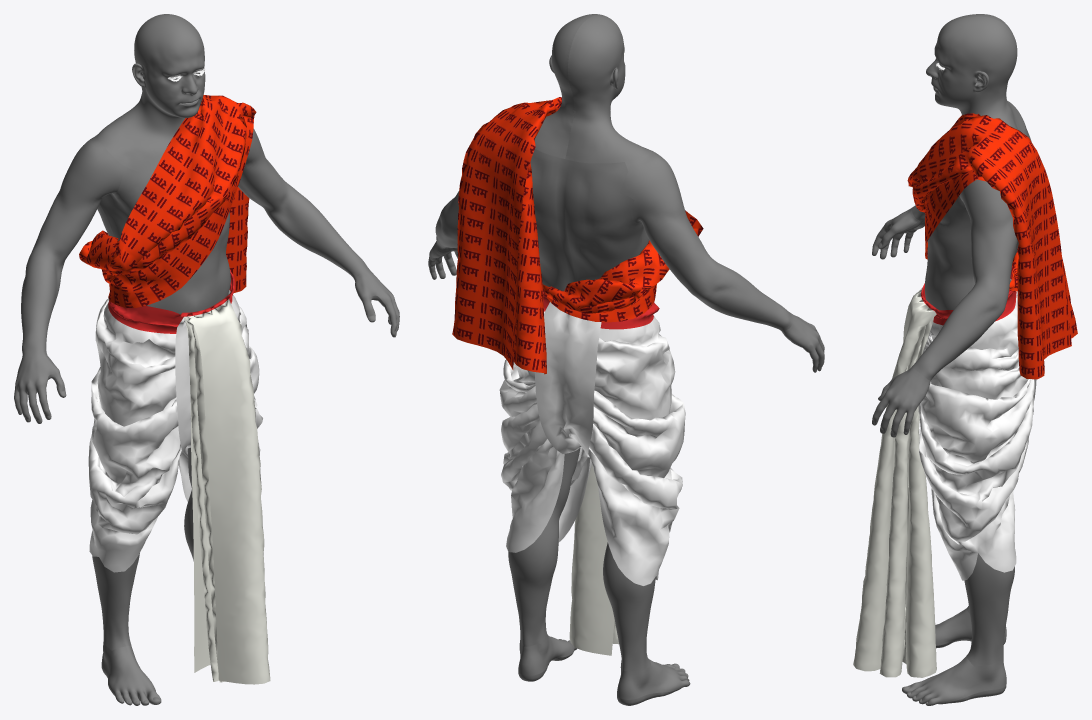
File: pujari-mahant-guru_72_b1y1.glb
3 renders of one model, left to right at view 1: azimuth 30°, elevation 25°; view 2: azimuth 150°, elevation 25°; view 3: azimuth 270°, elevation 25°, orthographic. The views are drawn at different scales.
Parts seen in each view (by area): view 1: Object_4, Object_3, Object_2, Object_6, Object_7; view 2: Object_4, Object_2, Object_6, Object_3, Object_7; view 3: Object_4, Object_2, Object_6, Object_3, Object_7.
Boxes of the visible parts, x1=… form: Object_4: x1=14, y1=14, x2=399, y2=705; Object_3: x1=184, y1=299, x2=270, y2=684; Object_2: x1=88, y1=290, x2=262, y2=572; Object_6: x1=79, y1=95, x2=256, y2=307; Object_7: x1=108, y1=270, x2=235, y2=333; Object_4: x1=428, y1=14, x2=824, y2=705; Object_2: x1=499, y1=302, x2=685, y2=585; Object_6: x1=452, y1=97, x2=703, y2=374; Object_3: x1=569, y1=465, x2=618, y2=655; Object_7: x1=543, y1=290, x2=659, y2=329; Object_4: x1=872, y1=14, x2=1031, y2=705; Object_2: x1=918, y1=279, x2=1036, y2=580; Object_6: x1=907, y1=113, x2=1077, y2=379; Object_3: x1=853, y1=288, x2=936, y2=677; Object_7: x1=921, y1=267, x2=1016, y2=325.
Bounding box in the file's own units: 76.14 × 125 × 38.84.
Materials: 6 (1 with a texture image).
